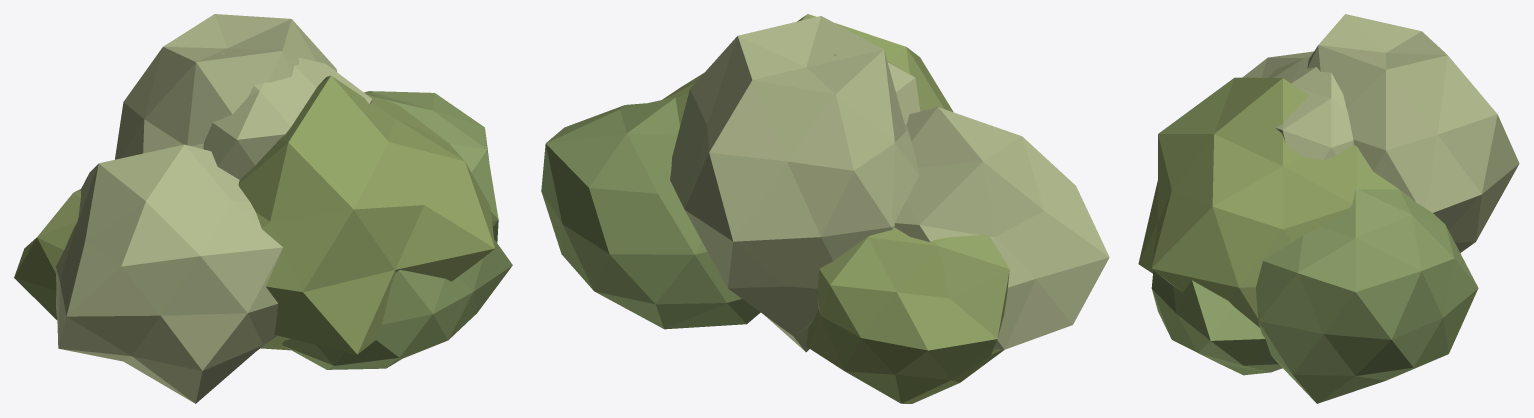
Rendered from bush_round_a.glb.
3 views of the same model, side by side, from view 1: azimuth 30°, elevation 25°; view 2: azimuth 150°, elevation 25°; view 3: azimuth 270°, elevation 25° (orthographic). The views are drawn at different scales.
Visible parts, largest first — view 1: bush_round_a; view 2: bush_round_a; view 3: bush_round_a.
Part boxes in pixels (<box>): bush_round_a: <box>14,14,512,403</box>; bush_round_a: <box>541,14,1109,403</box>; bush_round_a: <box>1138,14,1519,403</box>.
Bounding box in the file's own units: 1.74 × 1.1 × 1.26.
